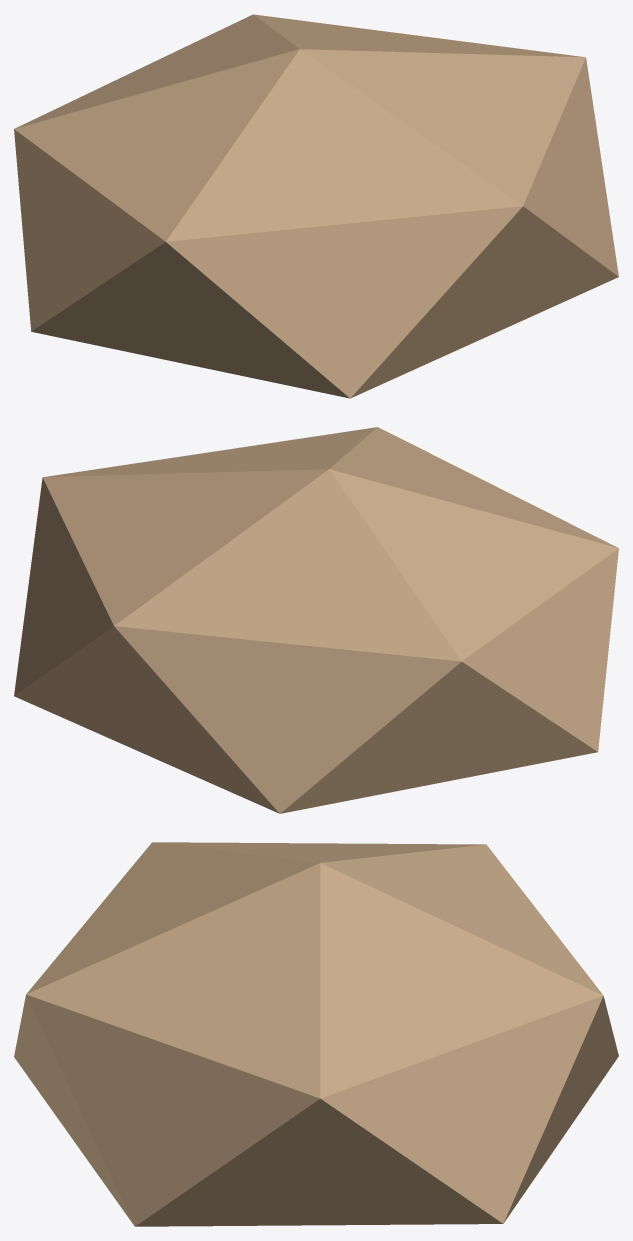
The model's file is enfeite_pedra_baixa.glb.
3 renders of one model, top to bottom at view 1: azimuth 30°, elevation 25°; view 2: azimuth 150°, elevation 25°; view 3: azimuth 270°, elevation 25°, orthographic. The views are drawn at different scales.
Parts seen in each view (by area): view 1: deserto_enfeite_pedra_baixa; view 2: deserto_enfeite_pedra_baixa; view 3: deserto_enfeite_pedra_baixa.
Boxes of the visible parts, box(x1,y1,x2,y2) form: deserto_enfeite_pedra_baixa: box(14, 14, 618, 398); deserto_enfeite_pedra_baixa: box(14, 427, 618, 813); deserto_enfeite_pedra_baixa: box(14, 842, 618, 1226).
Size of the model in its own units: 0.4304 by 0.2264 by 0.3754.
